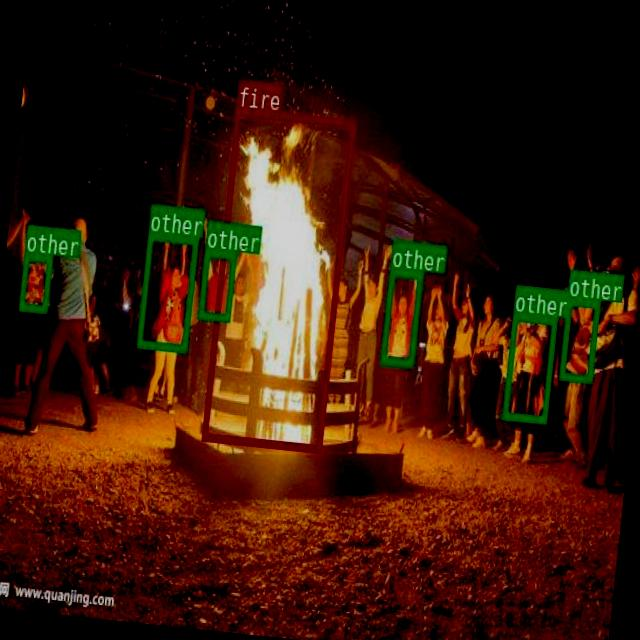fire: (200, 107, 354, 452)
